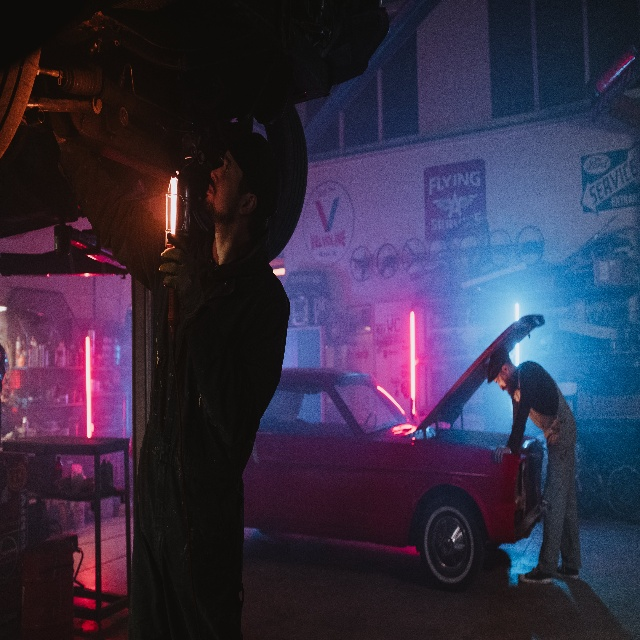Guantes: (158, 230, 201, 313), (491, 445, 511, 465)
